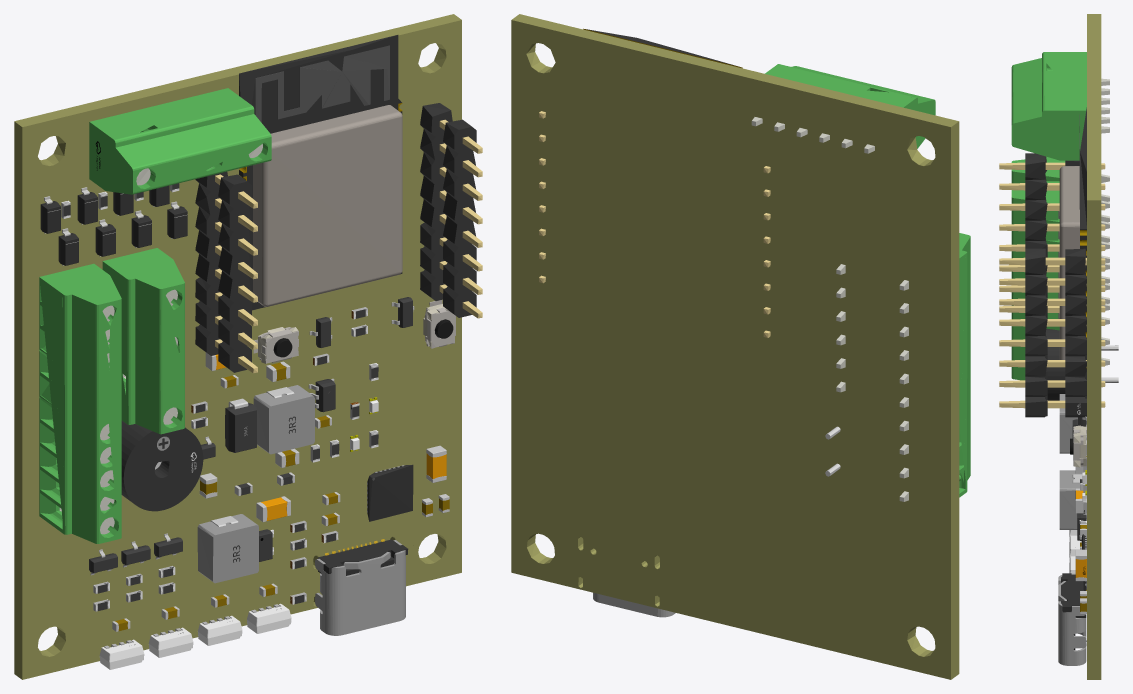
File: scheda_mm.obj
3 renders of one model, left to right at view 1: azimuth 30°, elevation 25°; view 2: azimuth 150°, elevation 25°; view 3: azimuth 270°, elevation 25°, orthographic. The views are drawn at different scales.
Size of the model in its own units: 49.7 by 61.63 by 13.47.
